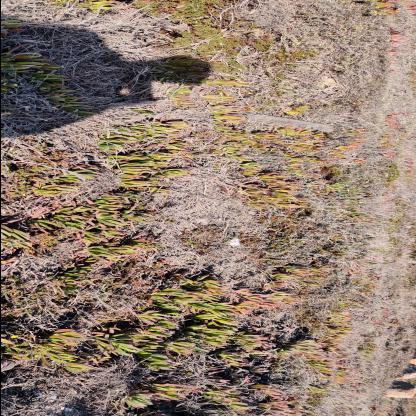cam: (227, 231, 241, 249)
